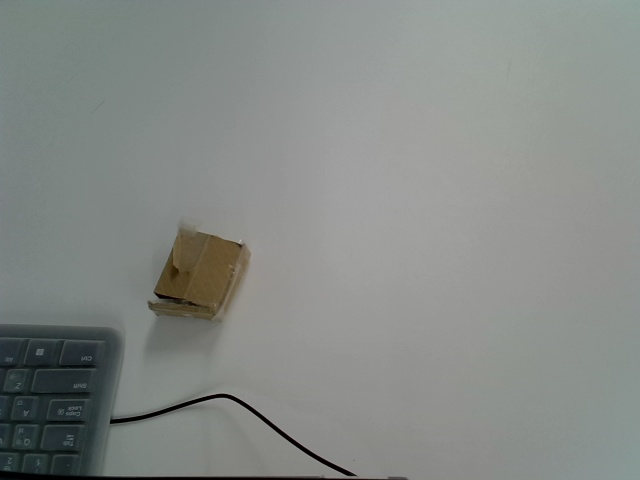defect: (148, 217, 250, 322)
